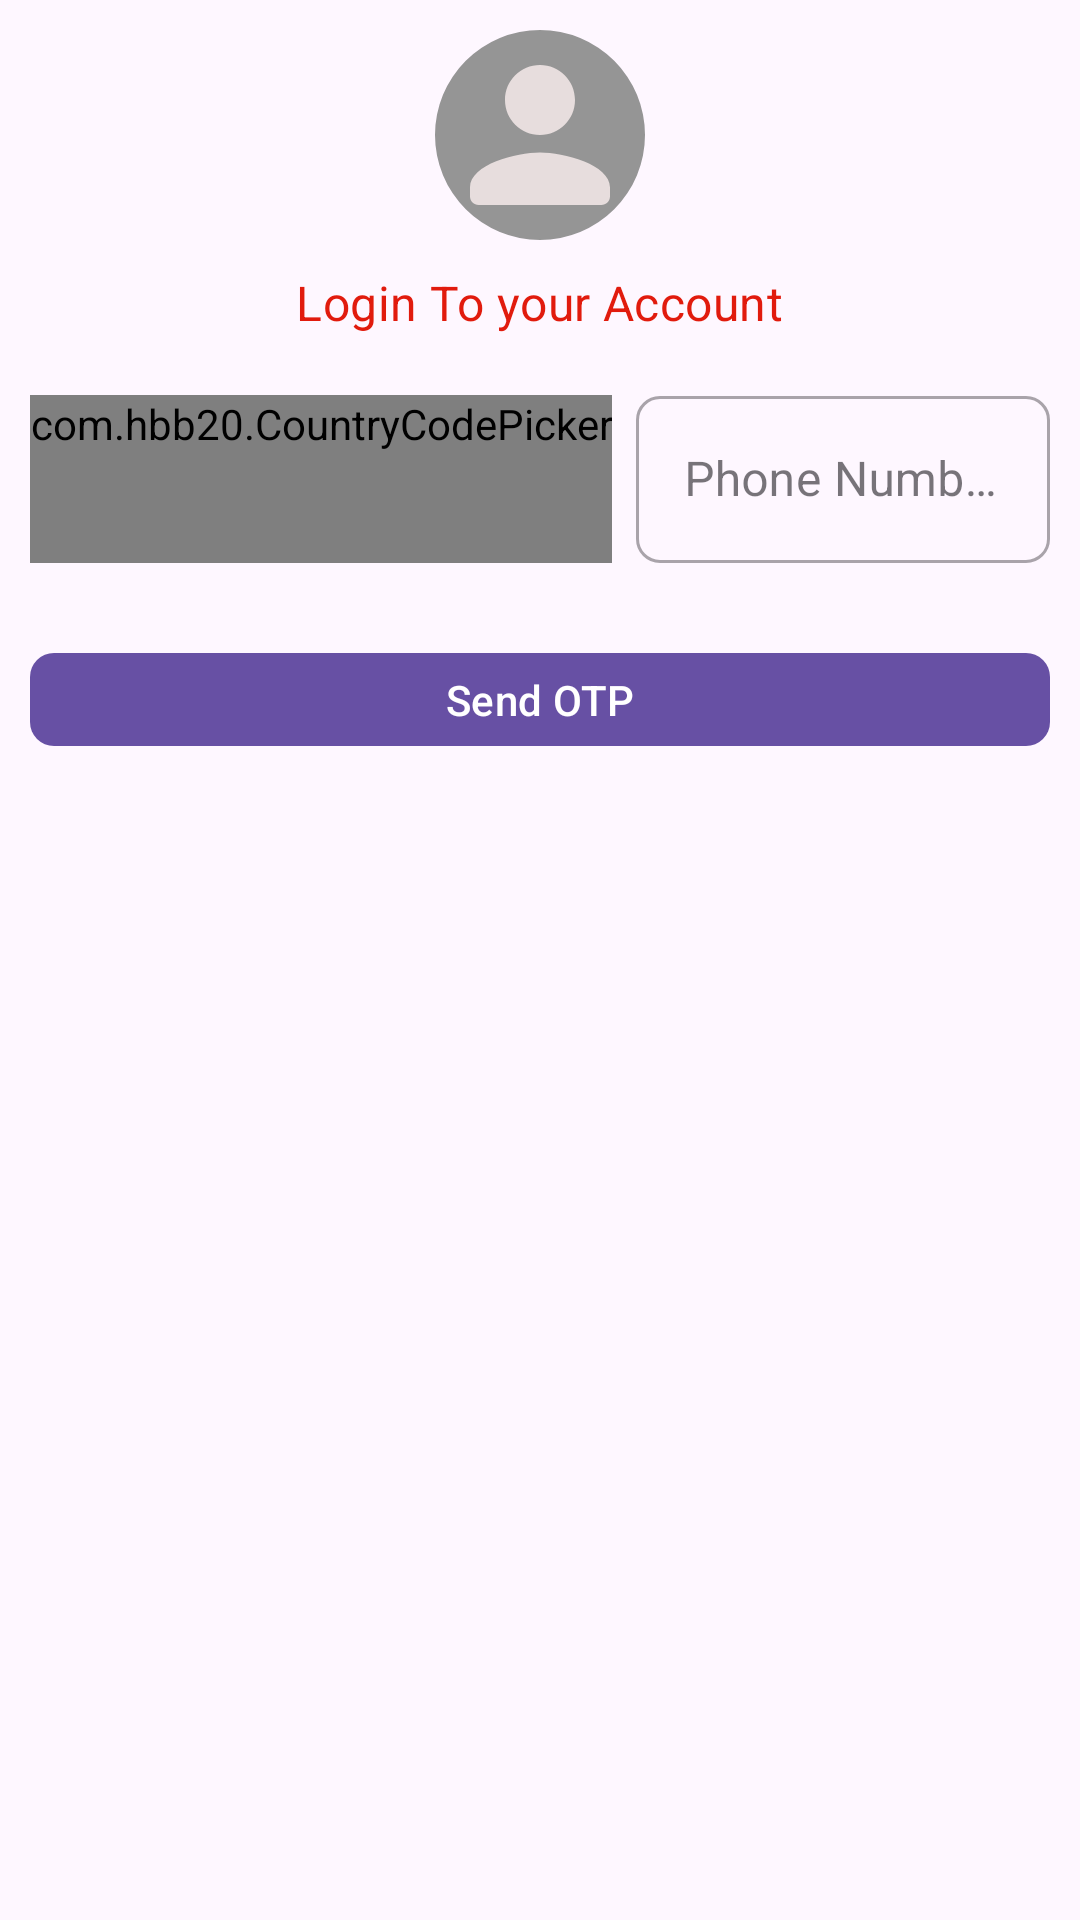

Where icons sit on this 1080 x 1920 app screen, as (x1, y1, x2, y2):
person: (435, 30, 645, 240)
